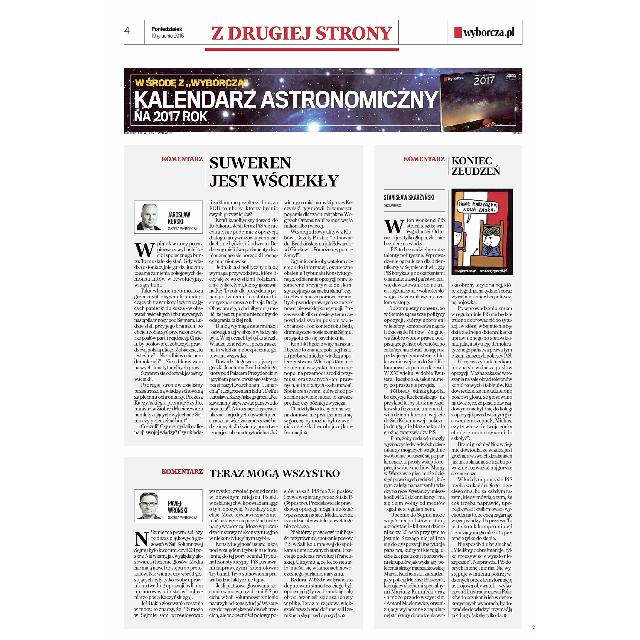article: (125, 146, 363, 446), (374, 145, 522, 627), (126, 460, 360, 624)
